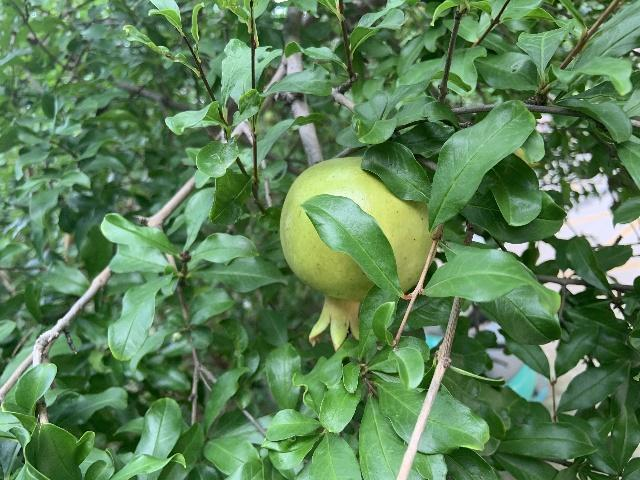mid-growth: (277, 157, 436, 352)
